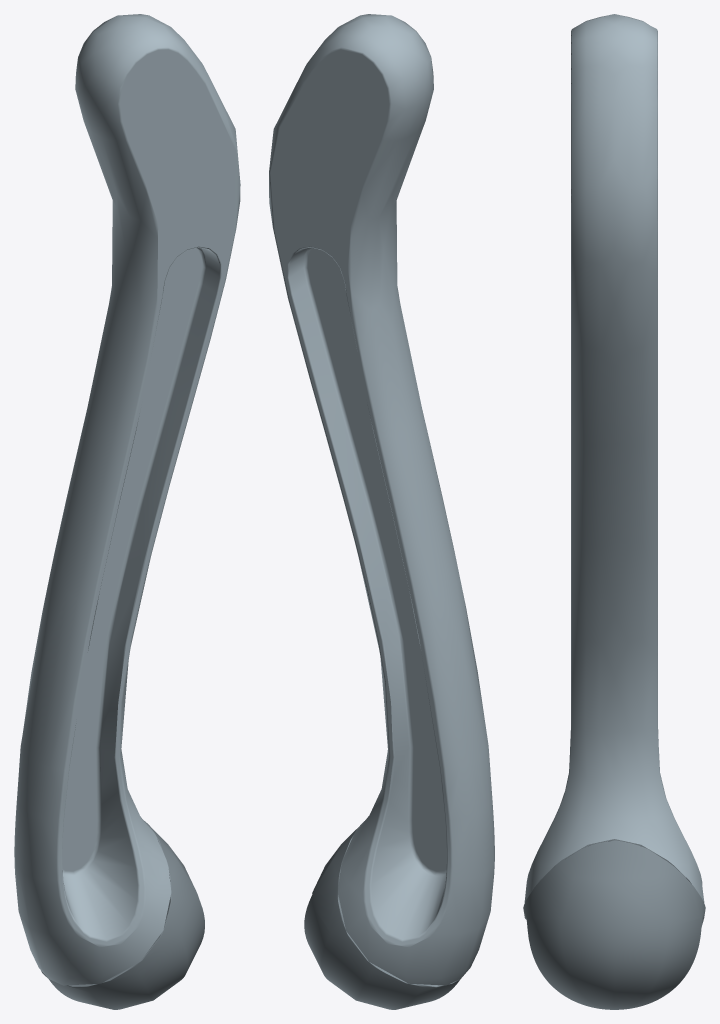
Rendered from knee.dae.
The picture shows the model from 3 angles, left to right: view 1: azimuth 30°, elevation 25°; view 2: azimuth 150°, elevation 25°; view 3: azimuth 270°, elevation 25°; orthographic projection.
Visible parts, largest first — view 1: knee; view 2: knee; view 3: knee.
Part boxes in pixels (x1,y1,x2,y2): knee: (14, 14, 240, 1009); knee: (269, 14, 494, 1009); knee: (523, 14, 705, 1009).
Bounding box in the file's own units: 0.0506 × 0.0377 × 0.2269.
